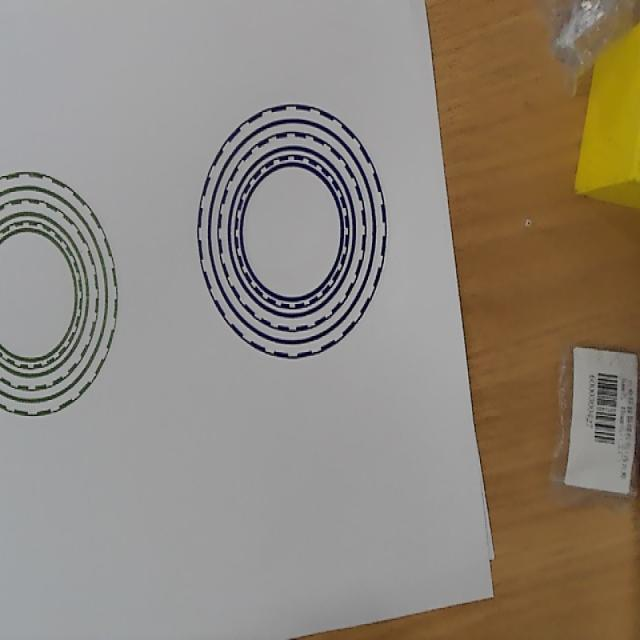b: (196, 101, 387, 362)
